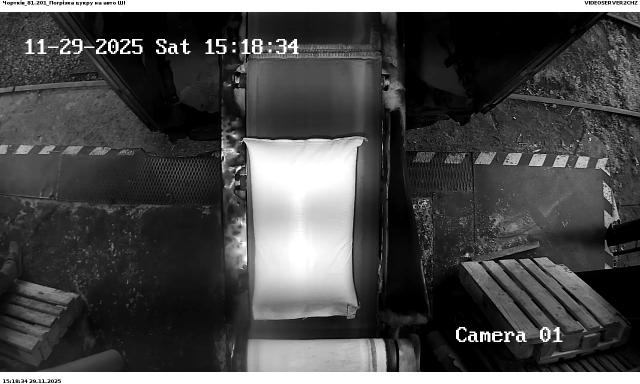bag: (239, 137, 364, 320)
